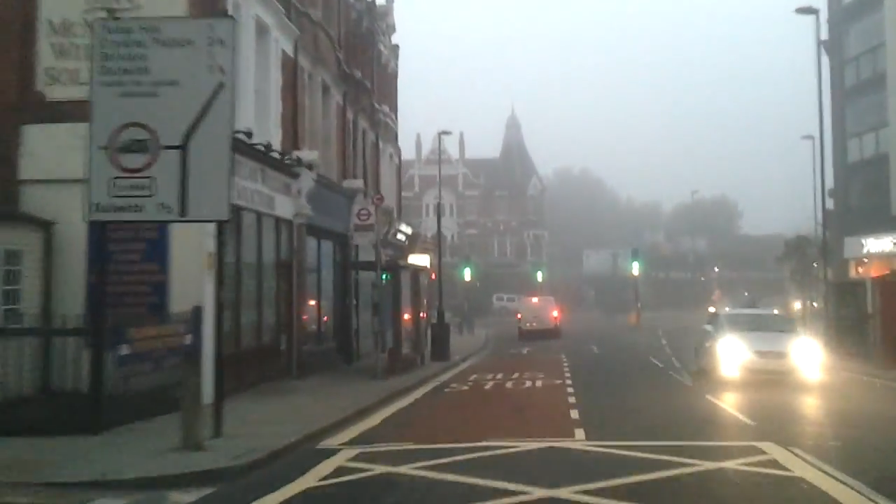car: (697, 306, 827, 389), (515, 294, 563, 338), (491, 292, 529, 316), (788, 295, 821, 322)
